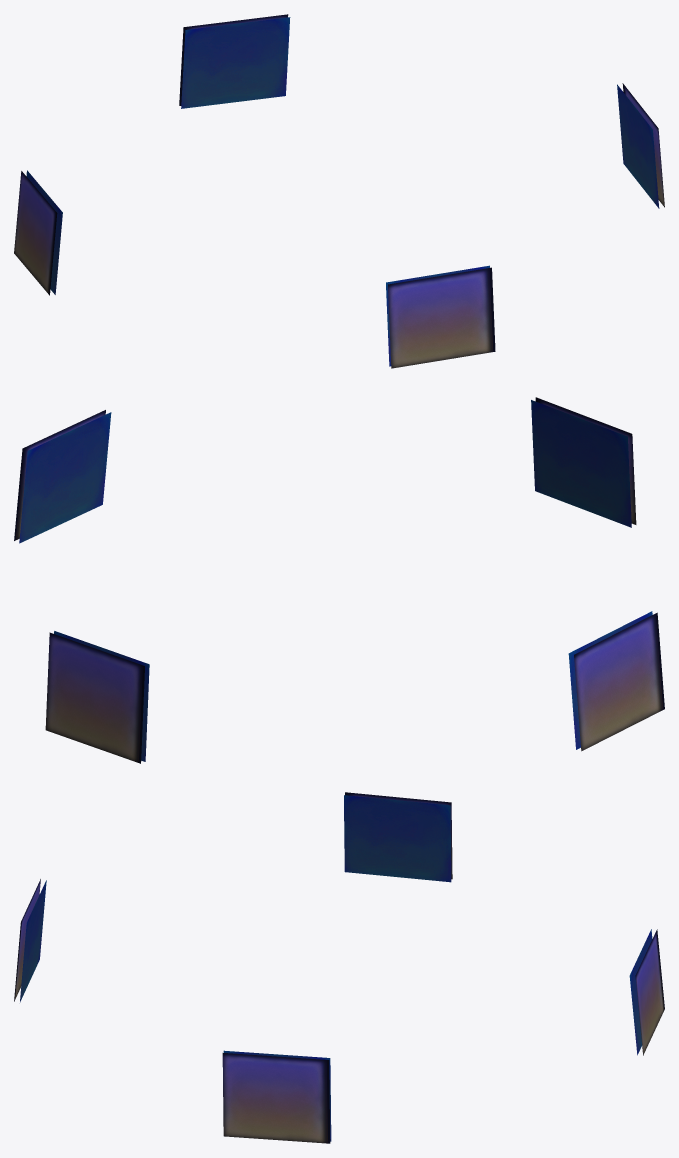
File: cylinder_house_50m_glass.DAE
3 renders of one model, top to bottom at view 1: azimuth 30°, elevation 25°; view 2: azimuth 150°, elevation 25°; view 3: azimuth 270°, elevation 25°, orthographic. The views are drawn at different scales.
Visible parts, largest first — view 1: Box01-Pivot; view 2: Box01-Pivot; view 3: Box01-Pivot.
Part boxes in pixels (<box>): Box01-Pivot: <box>14,14,664,368</box>; Box01-Pivot: <box>14,397,664,763</box>; Box01-Pivot: <box>14,792,664,1143</box>.
Size of the model in its own units: 42.92 by 6.03 by 43.02.
